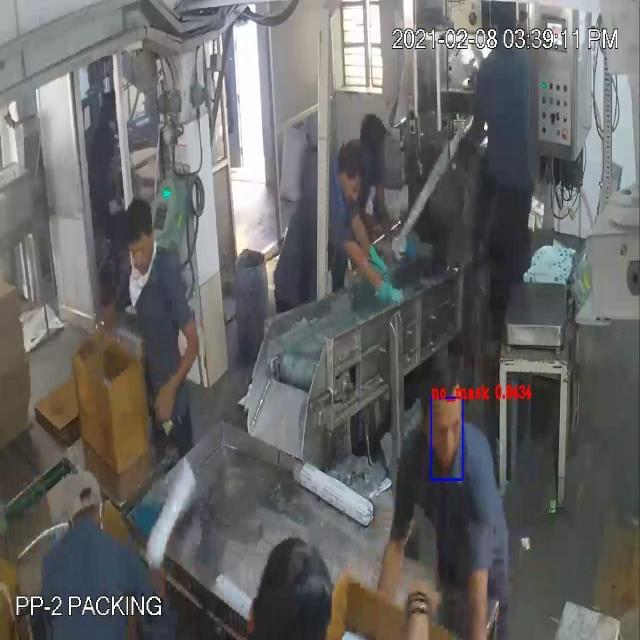No_Gloves: (36, 66, 481, 588)
